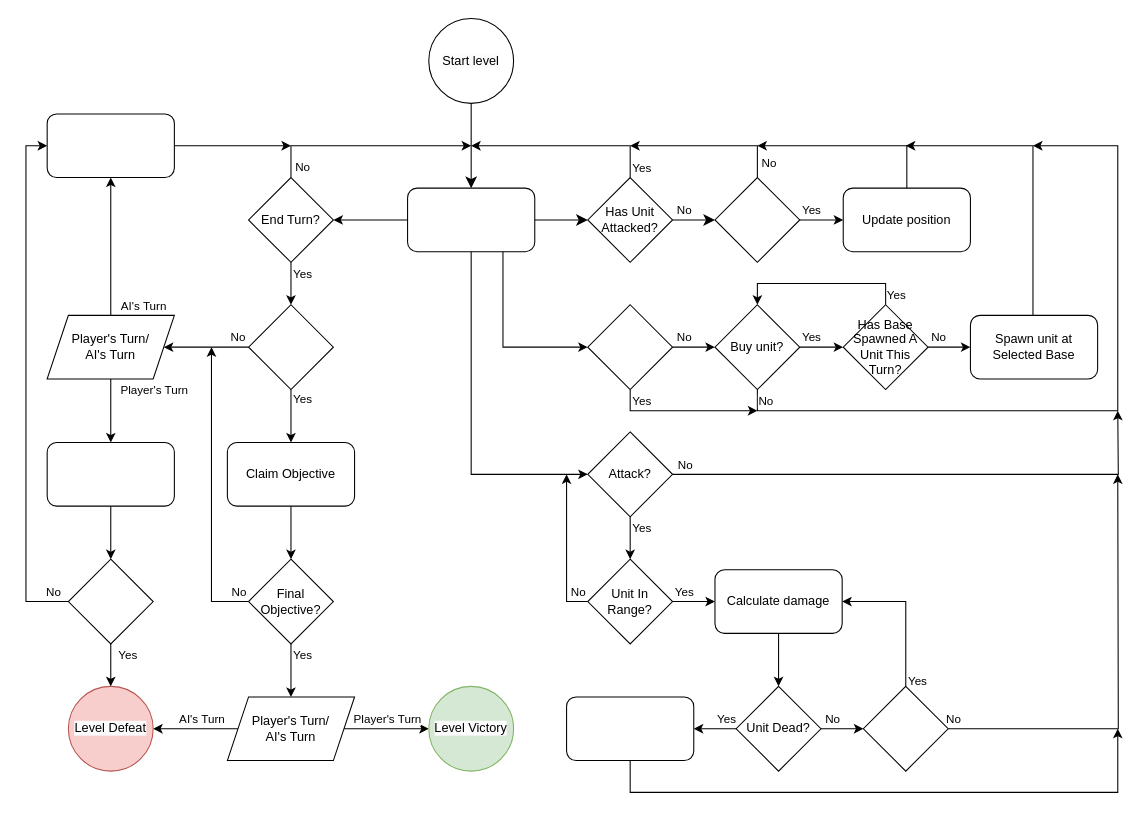
Image size: 1146x819. Some labels were removed from this diagram. Each missing label, with the box of its shape:
AI and Player Swap Turns: (46, 113, 174, 178)
Counter Attack?: (862, 685, 948, 771)
Idle (Select Unit): (407, 187, 535, 252)
Increment Turn Counter: (46, 441, 174, 506)
Move unit?: (714, 176, 800, 262)
Out of Turns?: (67, 558, 153, 644)
Remove Unit/ Update Cap: (566, 696, 694, 761)
Unit Cap Reached?: (587, 304, 673, 390)
Unit On Objective?: (248, 304, 333, 390)
